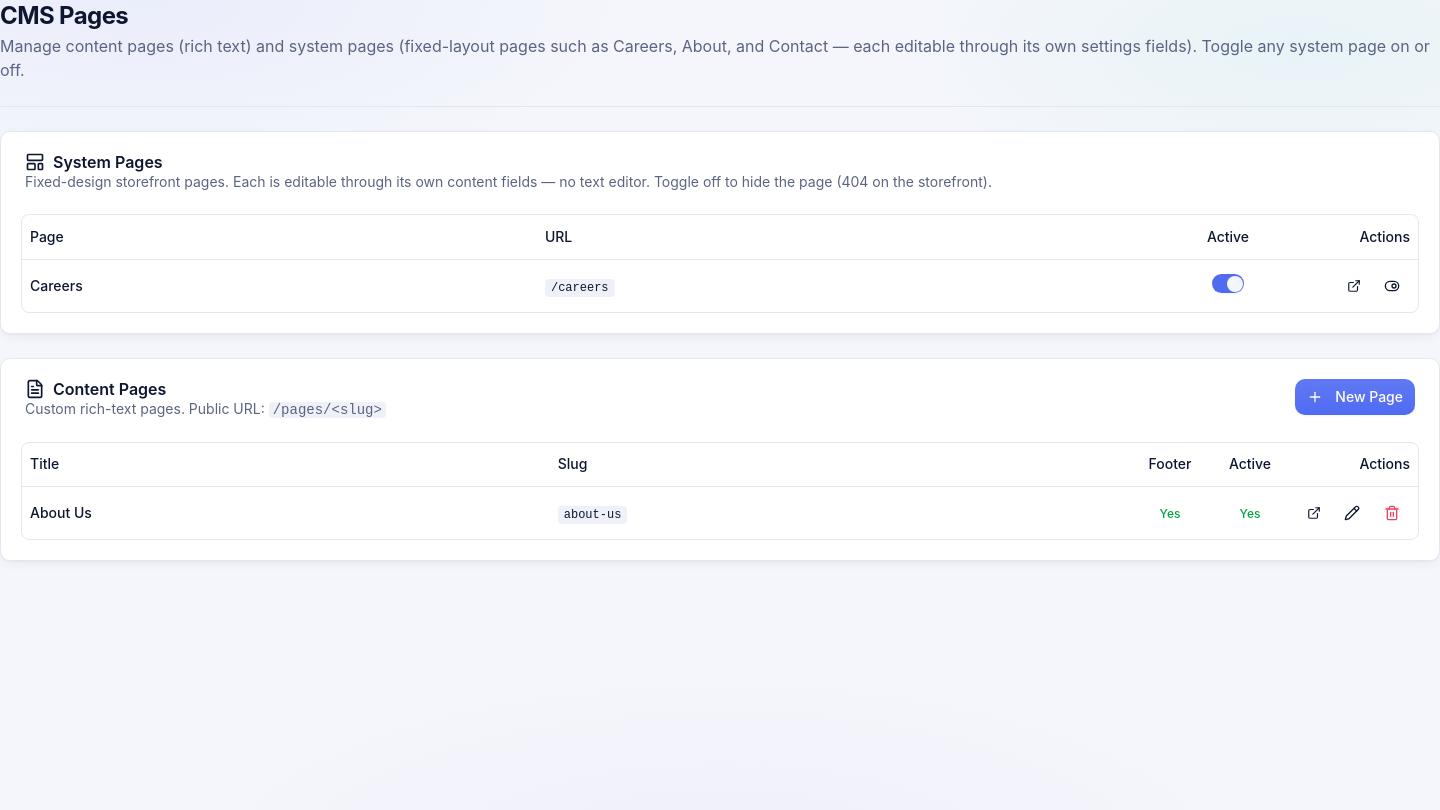
CmsPagesSettings › opens the template settings dialog populated from the page schema
Click the button titled "Edit settings".
click(1392, 286)  # box [1374, 268, 1410, 304]
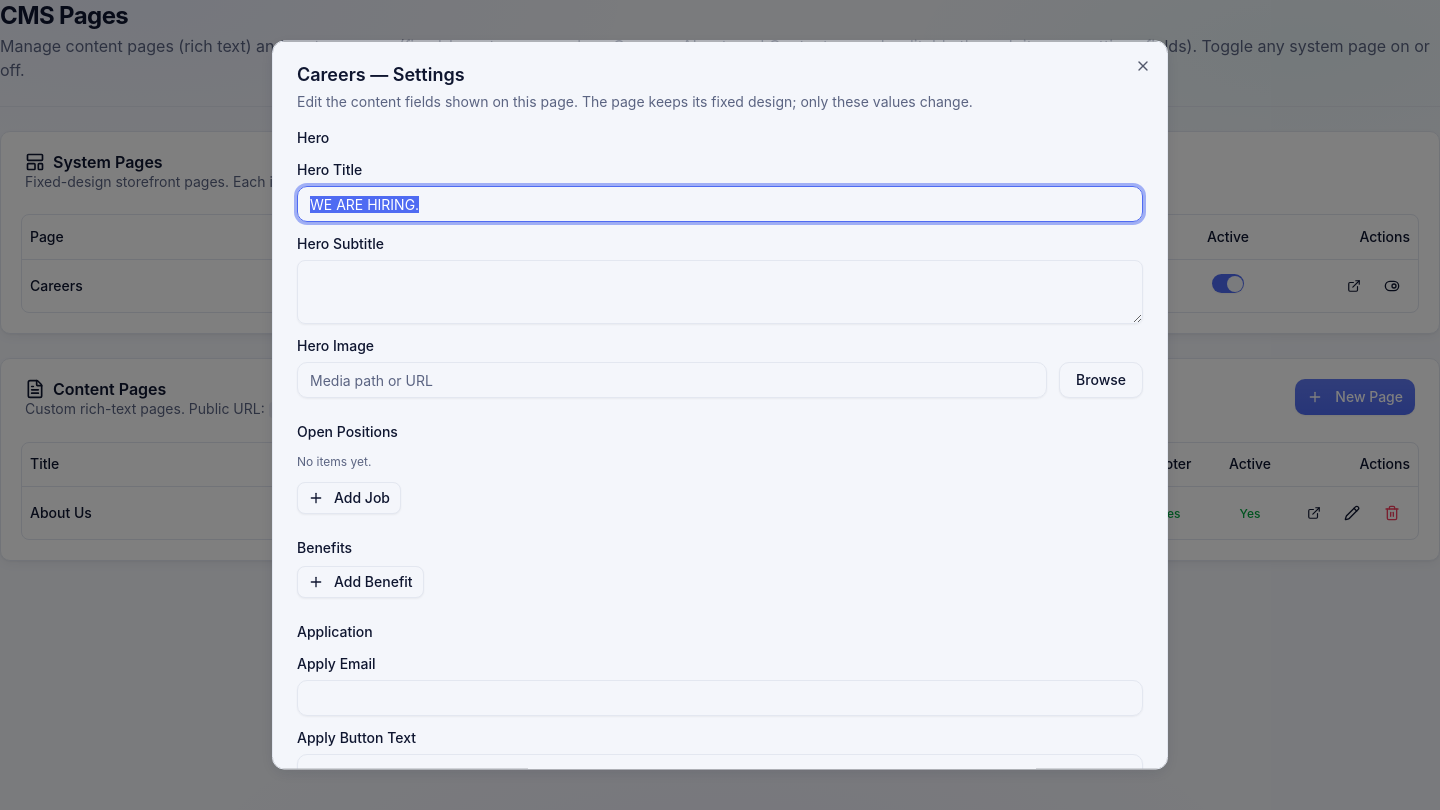
Expected: the heading "Careers — Settings" is shown, [297, 64, 465, 84]
Expected: the text "Hero Title" is shown, [297, 160, 362, 178]
Expected: the text "Open Positions" is shown, [297, 422, 398, 440]
